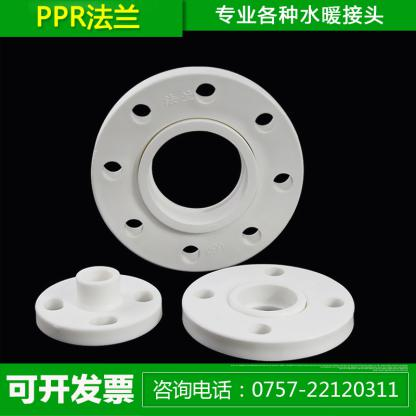FOD: (87, 64, 308, 276), (178, 262, 358, 360), (32, 262, 166, 346)
